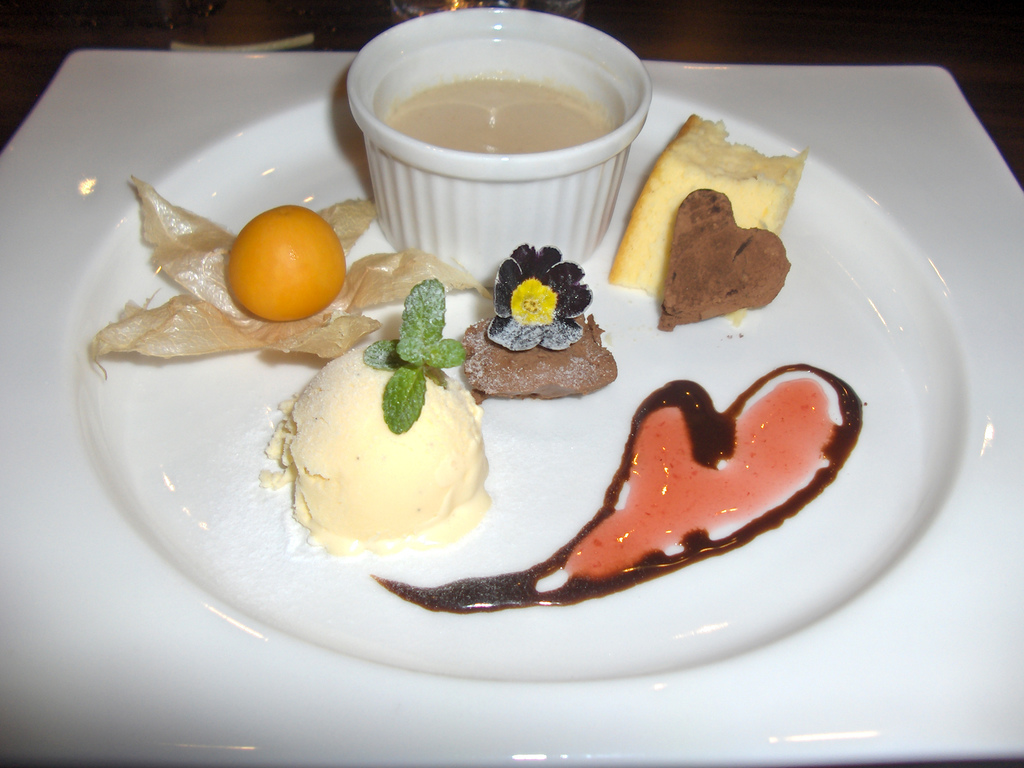plate: (30, 84, 1015, 695)
